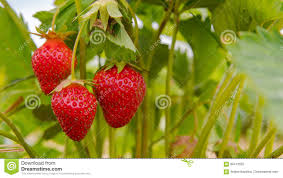ripe: (92, 61, 148, 128), (50, 77, 99, 142), (30, 34, 76, 94)
